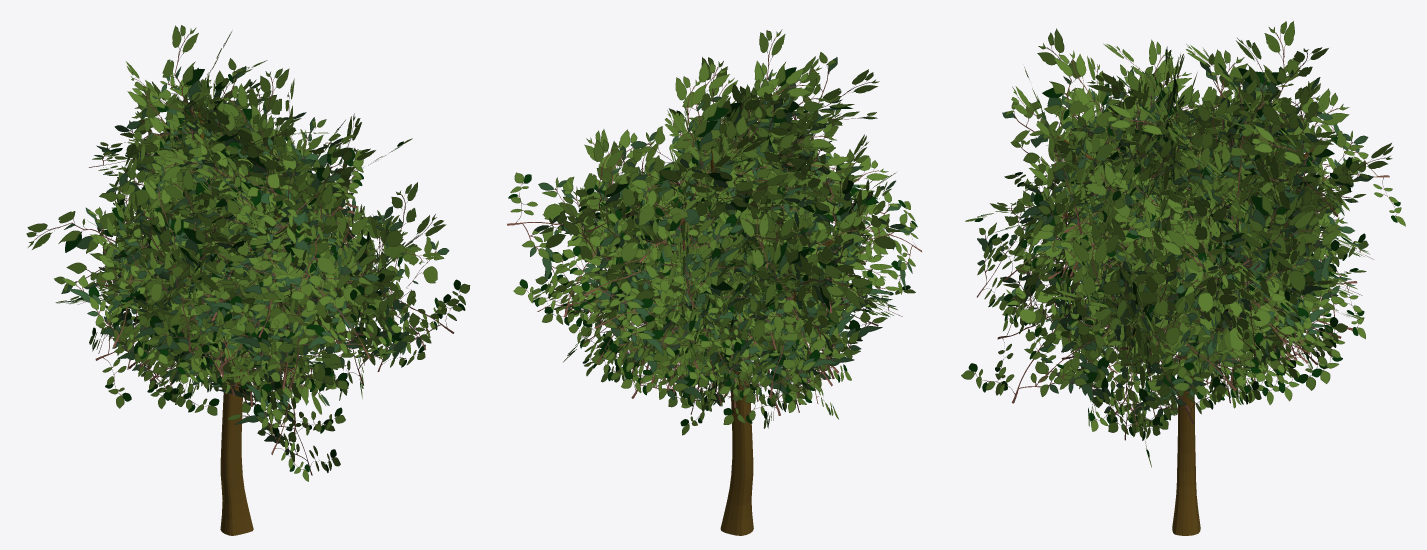
The model's file is Tree.fbx.
The picture shows the model from 3 angles, left to right: view 1: azimuth 30°, elevation 25°; view 2: azimuth 150°, elevation 25°; view 3: azimuth 270°, elevation 25°; orthographic projection. The views are drawn at different scales.
Visible parts, largest first — view 1: Cube|branch|Dupli|63, Cube, Cube|branch|Dupli|62, Cube|branch|Dupli|121, Cube|branch|Dupli|6, Cube|branch|Dupli|147, Cube|branch|Dupli|55, Cube|branch|Dupli|123, Cube|branch|Dupli|122, Cube|branch|Dupli|3, Cube|branch|Dupli|107, Cube|branch|Dupli|105 (+56 smaller); view 2: Cube|branch|Dupli|29, Cube|branch|Dupli|13, Cube|branch|Dupli|146, Cube, Cube|branch|Dupli|132, Cube|branch|Dupli|138, Cube|branch|Dupli|144, Cube|branch|Dupli|30, Cube|branch|Dupli|50, Cube|branch|Dupli|35, Cube|branch|Dupli|96, Cube|branch|Dupli|93 (+55 smaller); view 3: Cube|branch|Dupli|6, Cube|branch|Dupli|93, Cube|branch|Dupli|14, Cube|branch|Dupli|101, Cube|branch|Dupli|105, Cube|branch|Dupli|150, Cube|branch|Dupli|151, Cube|branch|Dupli|104, Cube|branch|Dupli|94, Cube, Cube|branch|Dupli|135, Cube|branch|Dupli|111 (+72 smaller).
Boxes of the visible parts, x1,y1,x2,y2 form: Cube|branch|Dupli|63: [228, 183, 379, 391]; Cube: [122, 107, 284, 535]; Cube|branch|Dupli|62: [230, 192, 401, 358]; Cube|branch|Dupli|121: [124, 168, 274, 374]; Cube|branch|Dupli|6: [226, 137, 354, 279]; Cube|branch|Dupli|147: [26, 172, 170, 293]; Cube|branch|Dupli|55: [201, 206, 368, 401]; Cube|branch|Dupli|123: [126, 182, 247, 352]; Cube|branch|Dupli|122: [109, 211, 259, 352]; Cube|branch|Dupli|3: [216, 148, 375, 278]; Cube|branch|Dupli|107: [335, 182, 449, 371]; Cube|branch|Dupli|105: [334, 206, 470, 361]; Cube|branch|Dupli|29: [600, 140, 744, 330]; Cube|branch|Dupli|13: [630, 61, 772, 261]; Cube|branch|Dupli|146: [737, 209, 855, 412]; Cube: [680, 150, 864, 535]; Cube|branch|Dupli|132: [729, 210, 887, 385]; Cube|branch|Dupli|138: [513, 129, 650, 317]; Cube|branch|Dupli|144: [718, 206, 857, 398]; Cube|branch|Dupli|30: [563, 186, 769, 328]; Cube|branch|Dupli|50: [576, 158, 788, 262]; Cube|branch|Dupli|35: [591, 234, 767, 400]; Cube|branch|Dupli|96: [507, 145, 699, 287]; Cube|branch|Dupli|93: [534, 139, 641, 325]; Cube|branch|Dupli|6: [1002, 28, 1126, 234]; Cube|branch|Dupli|93: [1198, 155, 1323, 378]; Cube|branch|Dupli|14: [1179, 21, 1332, 226]; Cube|branch|Dupli|101: [1085, 218, 1226, 423]; Cube|branch|Dupli|105: [1025, 261, 1222, 403]; Cube|branch|Dupli|150: [1089, 217, 1197, 440]; Cube|branch|Dupli|151: [1066, 227, 1273, 406]; Cube|branch|Dupli|104: [1058, 221, 1211, 435]; Cube|branch|Dupli|94: [1165, 192, 1329, 381]; Cube: [1057, 103, 1314, 535]; Cube|branch|Dupli|135: [1136, 207, 1352, 383]; Cube|branch|Dupli|111: [961, 222, 1108, 403].
Size of the model in its own units: 834 by 979 by 800.
